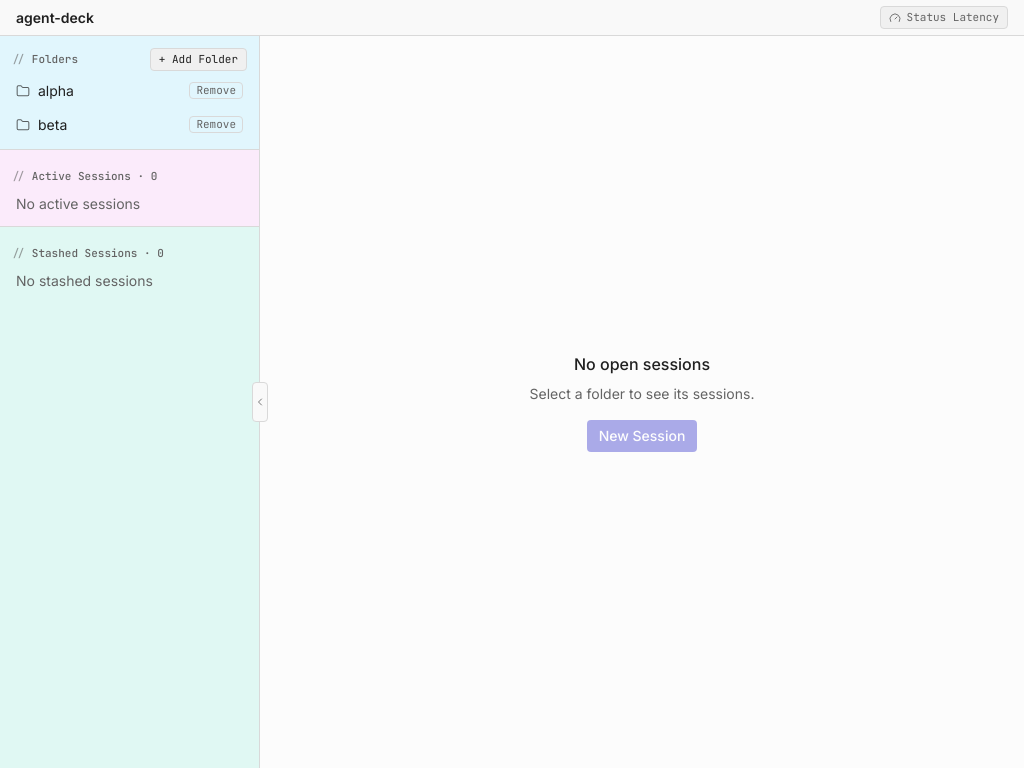
it: removing (5.3) › removes the entry on success
Click the 1st button "Remove ".
click(216, 90)  # box [189,82,243,99]
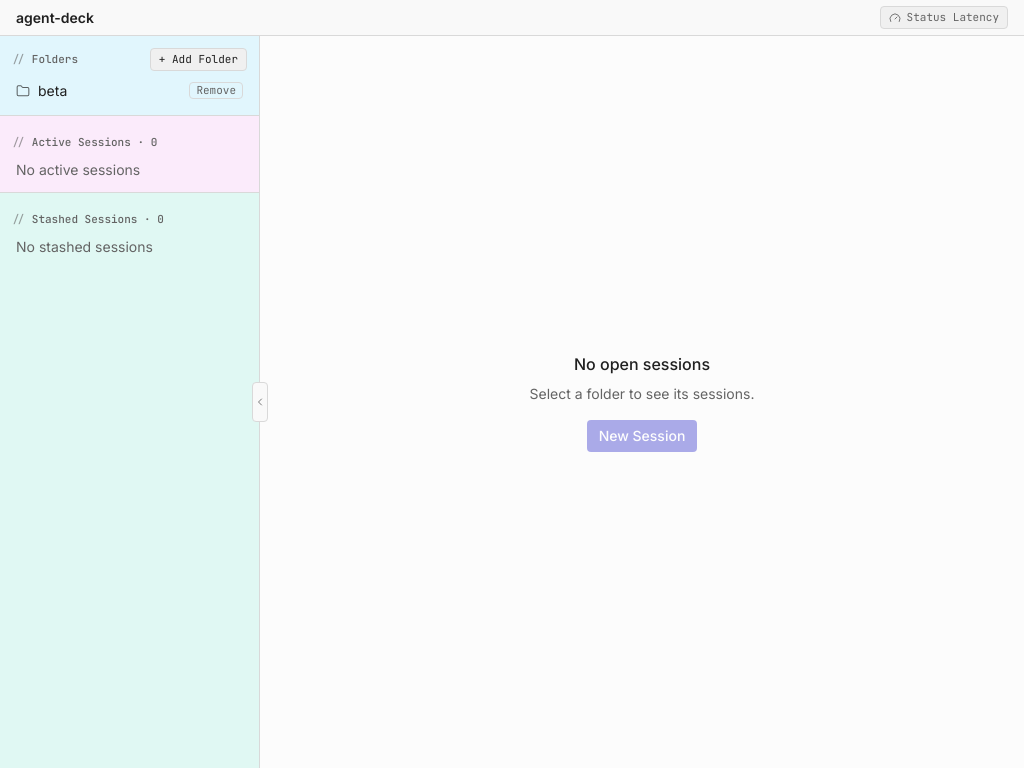
Expected: the text "beta" is shown, [38,80,67,100]
Now the button "alpha" is gone
